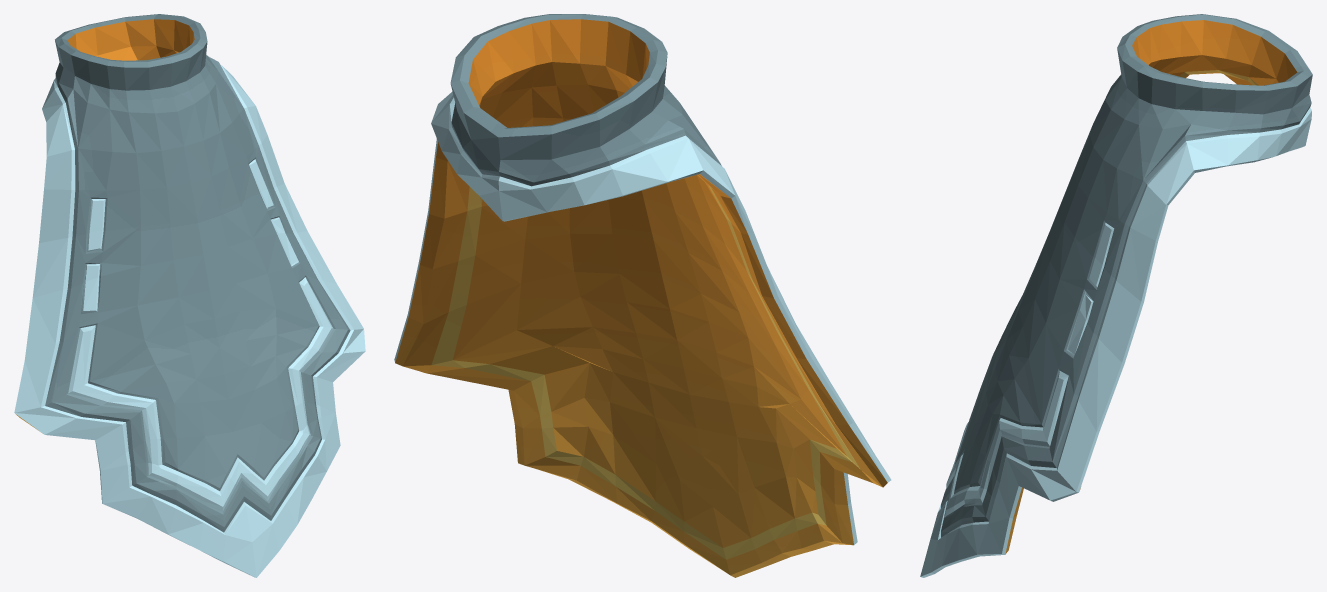
Rendered from CharSkyKid_Wing_AP22Designer.glb.
The picture shows the model from 3 angles, left to right: view 1: azimuth 30°, elevation 25°; view 2: azimuth 150°, elevation 25°; view 3: azimuth 270°, elevation 25°; orthographic projection. The views are drawn at different scales.
Visible parts, largest first — view 1: CharSkyKid_Wing_AP22Designer; view 2: CharSkyKid_Wing_AP22Designer; view 3: CharSkyKid_Wing_AP22Designer.
Part boxes in pixels (x1,y1,x2,y2): CharSkyKid_Wing_AP22Designer: (14,14,365,577); CharSkyKid_Wing_AP22Designer: (394,14,891,577); CharSkyKid_Wing_AP22Designer: (920,14,1312,577).
Size of the model in its own units: 5.62 by 7.03 by 4.69.
Materials: 1 (1 with a texture image).
